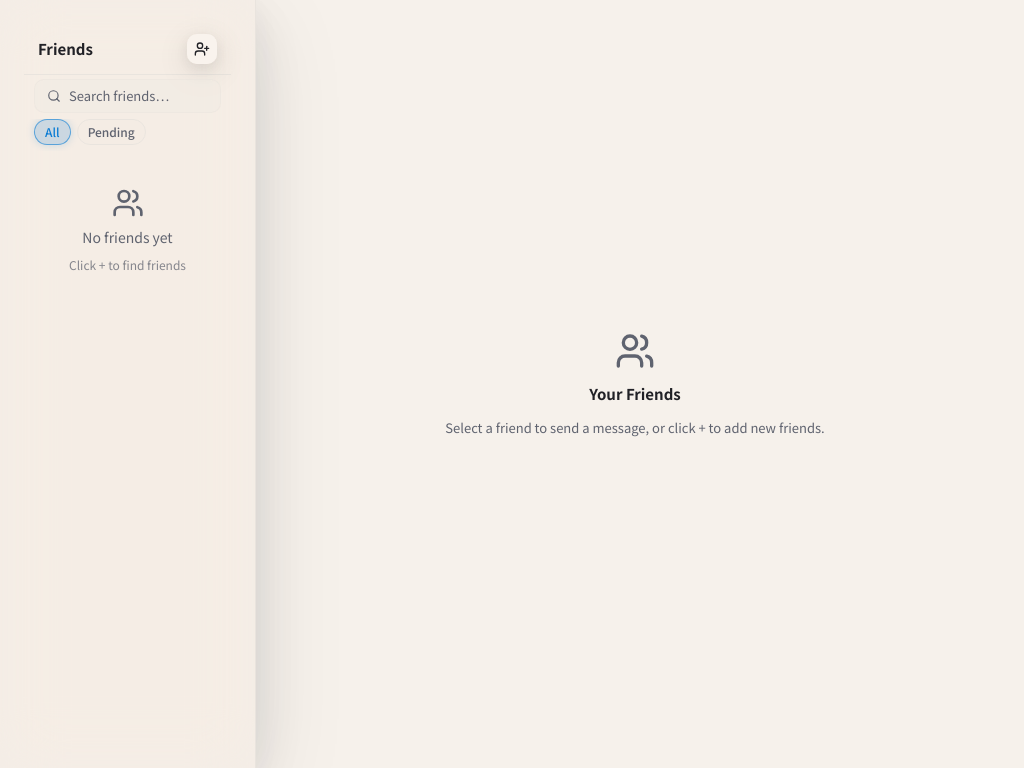
Test: TC-F-NEW-06: AddFriendModal closes on overlay click › unmounts modal when user clicks outside the panel
Click the button named "add friend" at (202, 49), box [187,34,217,64]
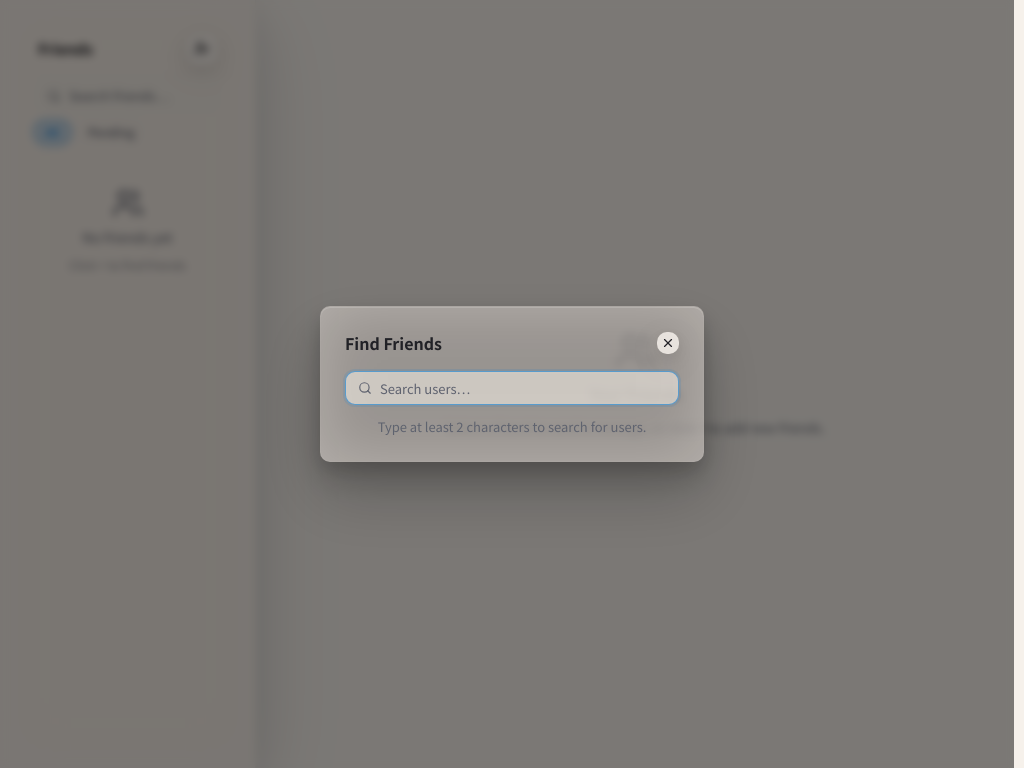
Expected: the dialog is shown, [320,306,704,462]
Click the element showing "Find Friends Type at least 2 characters to search for users." at (61, 384), box [0,0,1023,767]
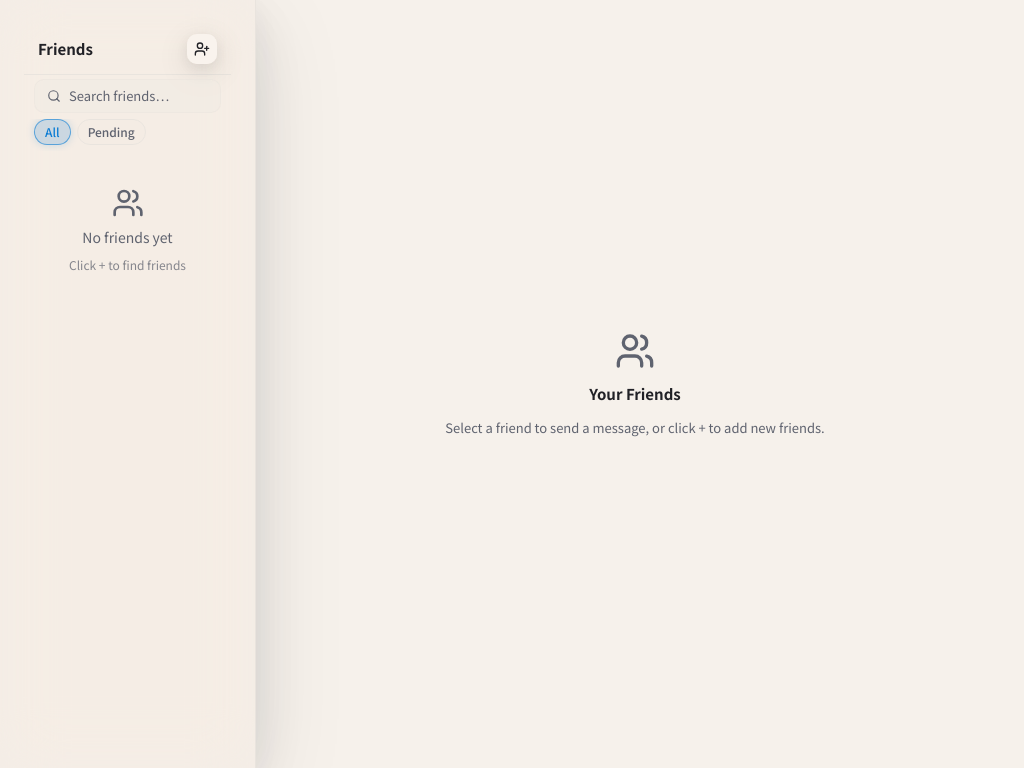
Expected: the dialog is gone
